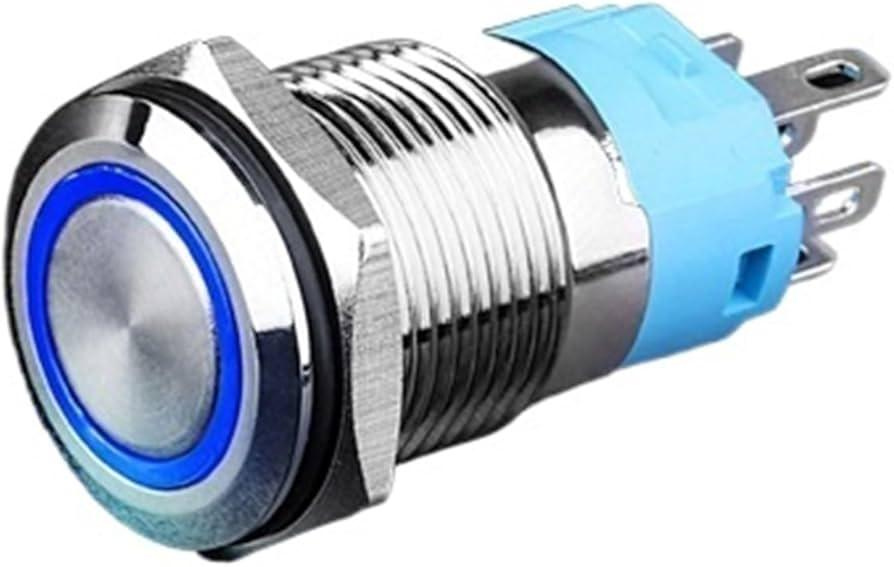pushbutton: (14, 8, 894, 555)
